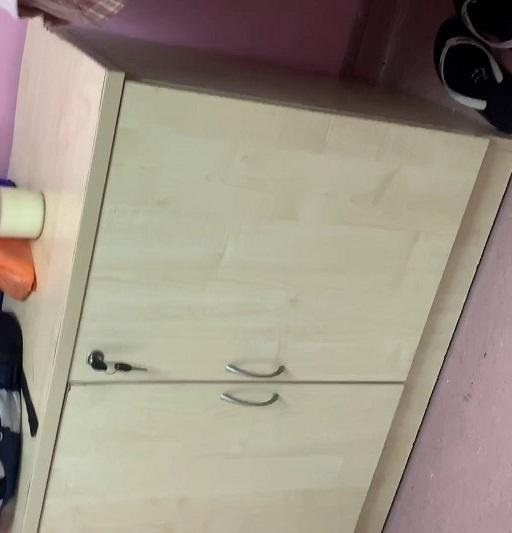cabinet_door: (97, 114, 479, 384), (57, 388, 394, 533)
handle: (218, 390, 284, 413), (223, 363, 289, 382)
